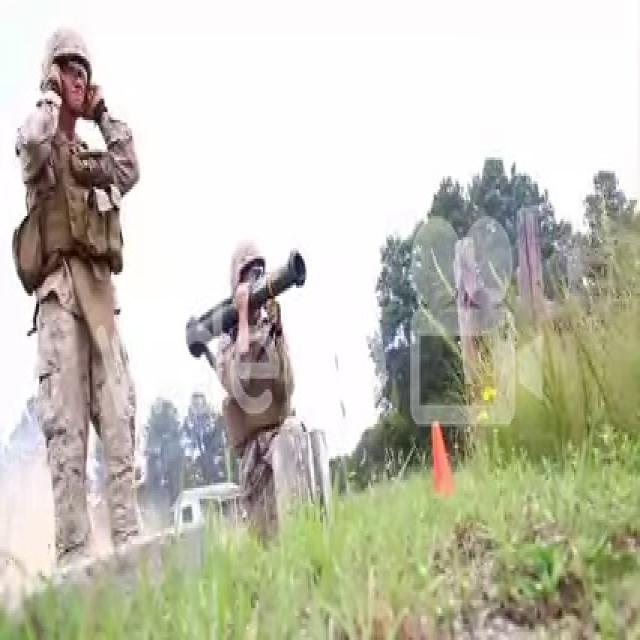bazooka: (183, 248, 312, 371)
